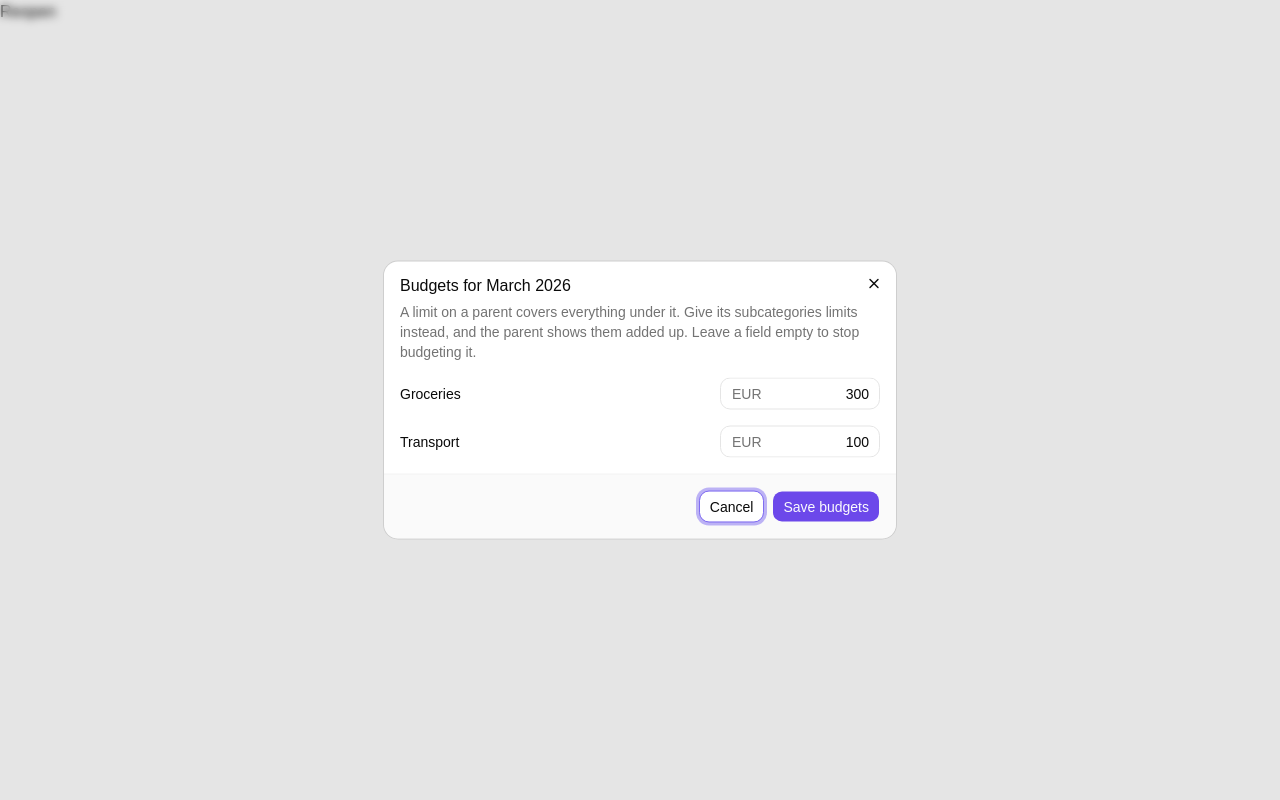
Scenario: confirming what a save removes › names every category, when several fields were emptied
The image size is (1280, 800).
Clear the field labelled "Groceries" at (800,394), box x1=720 y1=378 x2=880 y2=410
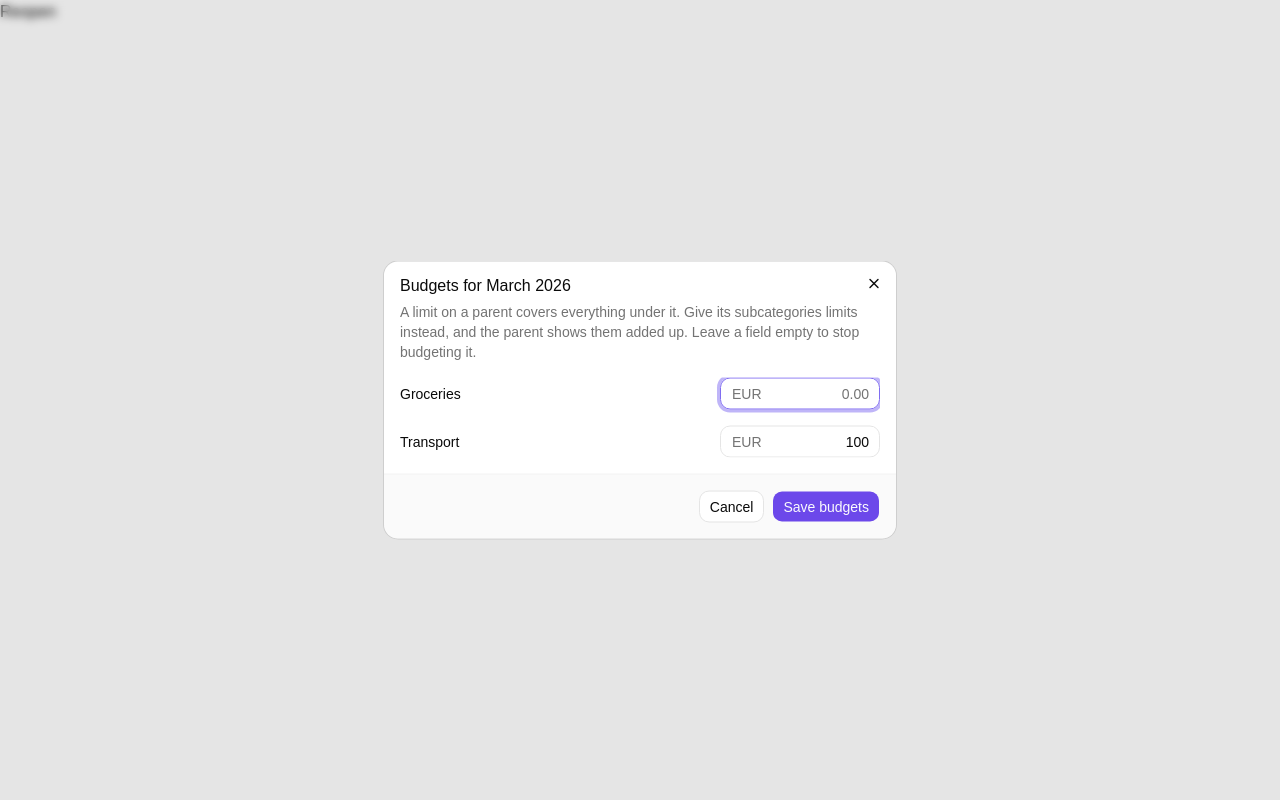
Clear the field labelled "Transport" at (800,442), box x1=720 y1=426 x2=880 y2=458
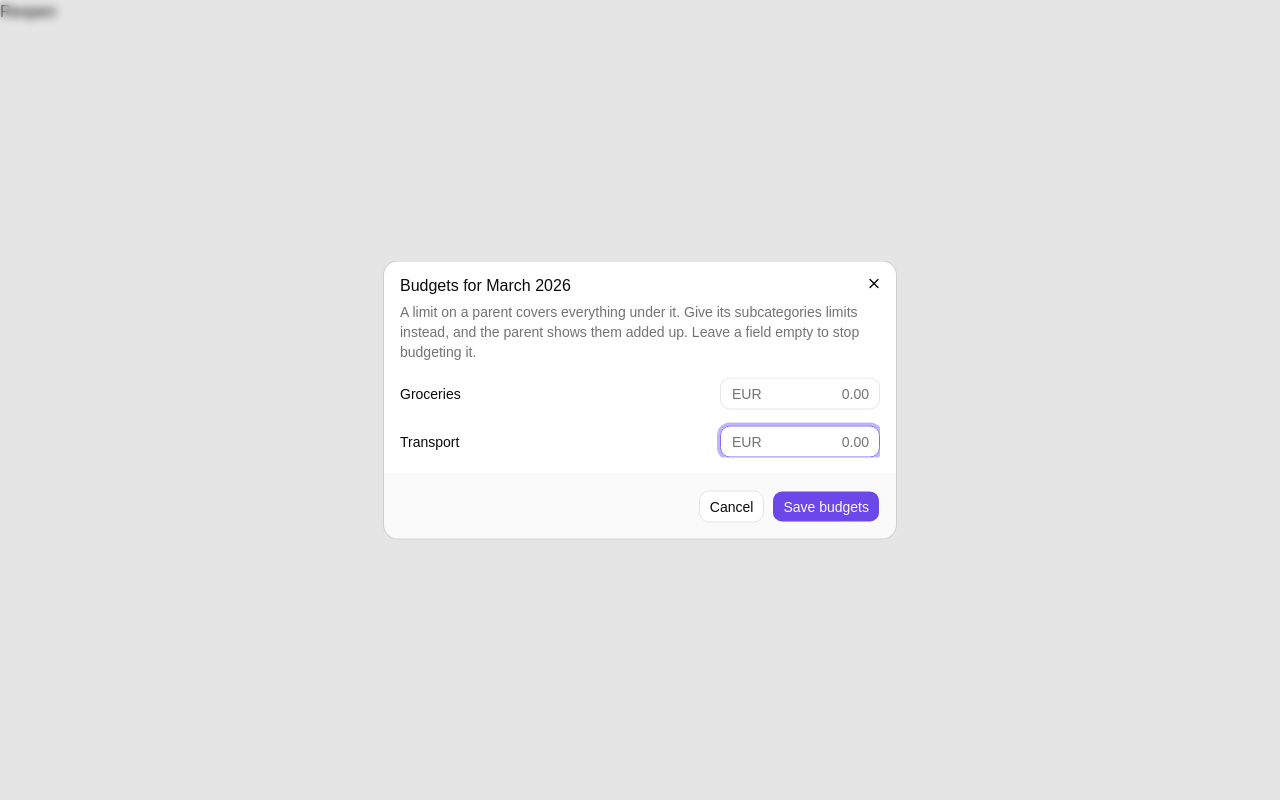
Click the button "Save budgets" at (826,506), box x1=772 y1=490 x2=880 y2=522
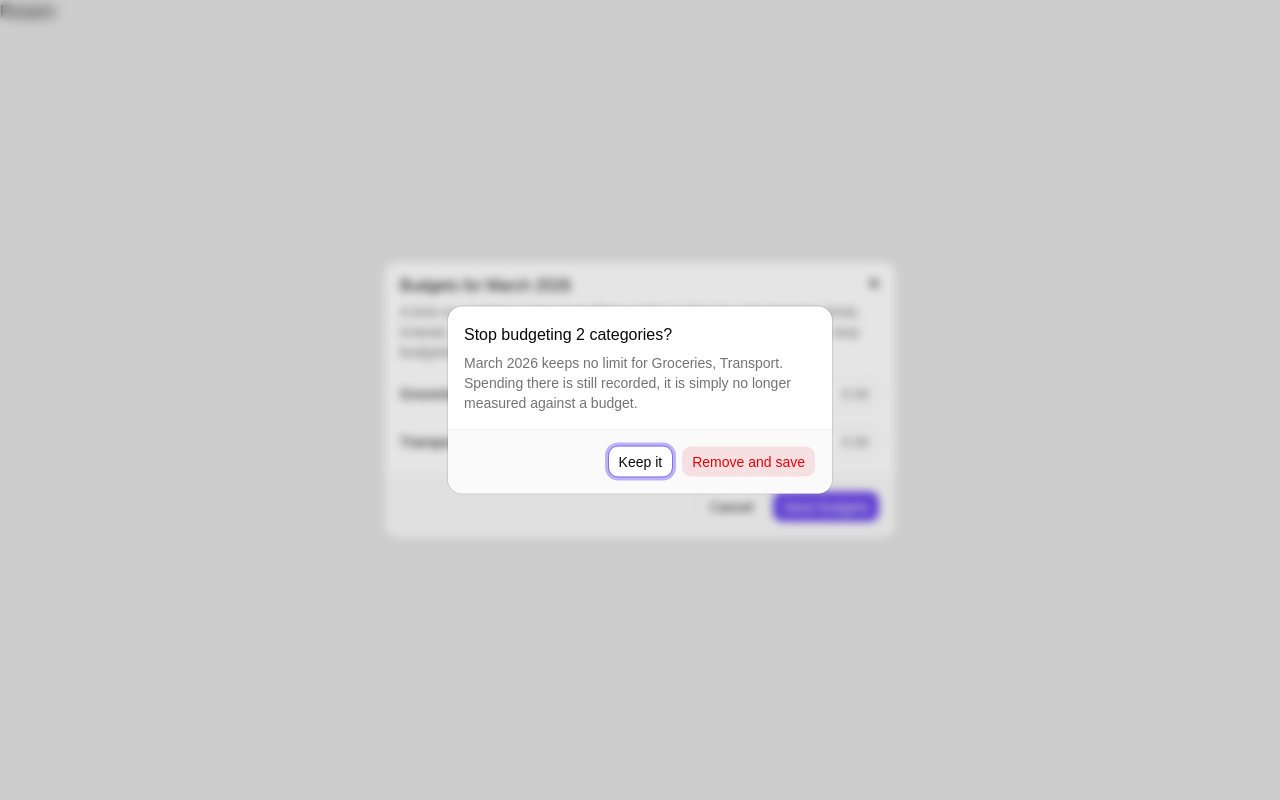
Expected: the heading "Stop budgeting 2 categories?" is shown, x1=464 y1=322 x2=672 y2=346
Expected: the text "Groceries, Transport" is shown, x1=652 y1=354 x2=779 y2=370
